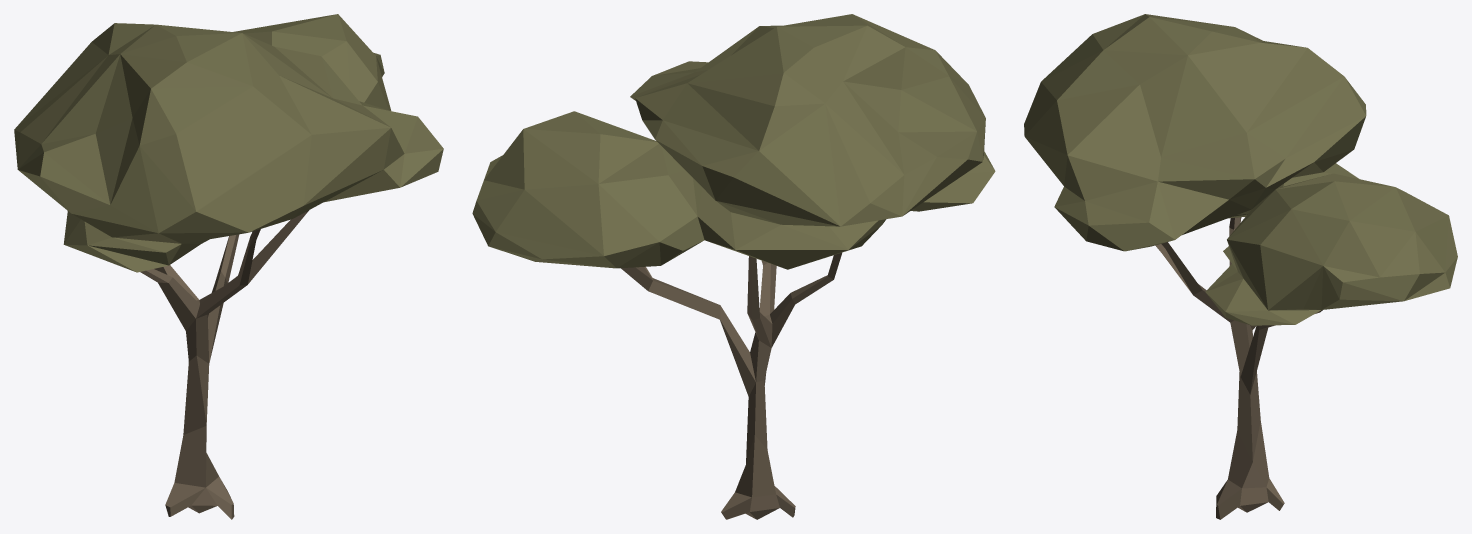
Rendered from SM_Env_Tree_Round_02.glb.
3 views of the same model, side by side, from view 1: azimuth 30°, elevation 25°; view 2: azimuth 150°, elevation 25°; view 3: azimuth 270°, elevation 25° (orthographic). The views are drawn at different scales.
Parts seen in each view (by area): view 1: SM_Env_Tree_Round_02; view 2: SM_Env_Tree_Round_02; view 3: SM_Env_Tree_Round_02.
Boxes of the visible parts, x1,y1,x2,y2 form: SM_Env_Tree_Round_02: (14, 14, 443, 519); SM_Env_Tree_Round_02: (472, 14, 995, 519); SM_Env_Tree_Round_02: (1024, 14, 1457, 519).
Size of the model in its own units: 5.5 by 6.22 by 5.24.
Materials: 1 (1 with a texture image).
